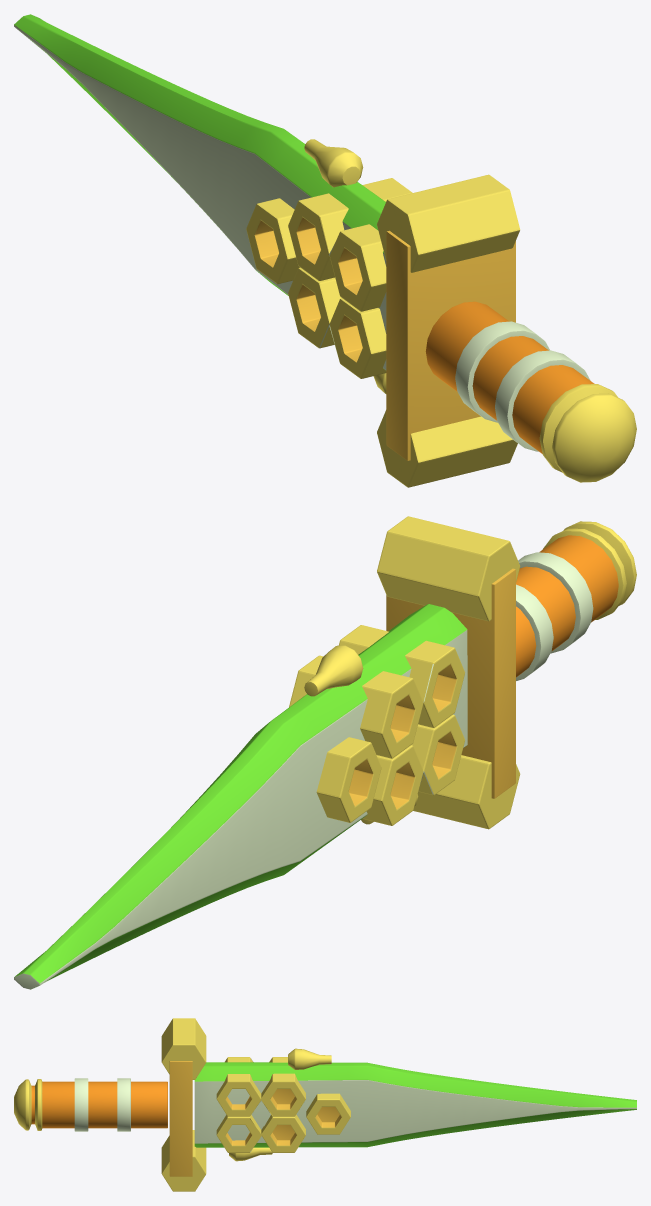
Rendered from Sword_HoneycombThorn.glb.
3 views of the same model, one above another, from view 1: azimuth 30°, elevation 25°; view 2: azimuth 150°, elevation 25°; view 3: azimuth 270°, elevation 25° (orthographic). The views are drawn at different scales.
Parts seen in each view (by area): view 1: Sword_HoneycombThorn; view 2: Sword_HoneycombThorn; view 3: Sword_HoneycombThorn.
Boxes of the visible parts, left/top/right/bottom form: Sword_HoneycombThorn: left=14, top=14, right=636, bottom=487; Sword_HoneycombThorn: left=14, top=516, right=636, bottom=989; Sword_HoneycombThorn: left=14, top=1018, right=636, bottom=1191.
Bounding box in the file's own units: 0.108 × 0.26 × 1.
Materials: 1 (1 with a texture image).
